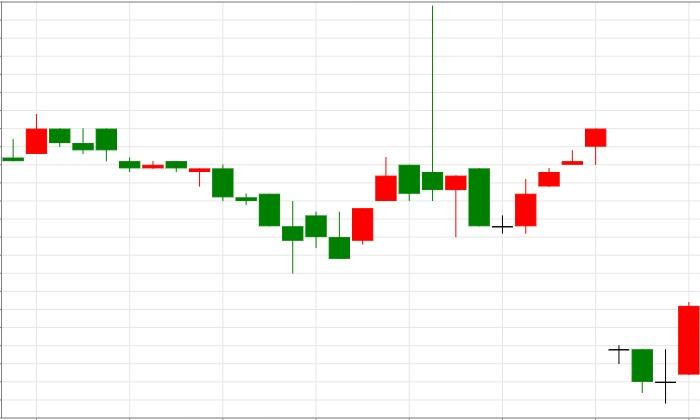morning_star_rise: (586, 127, 700, 403)
